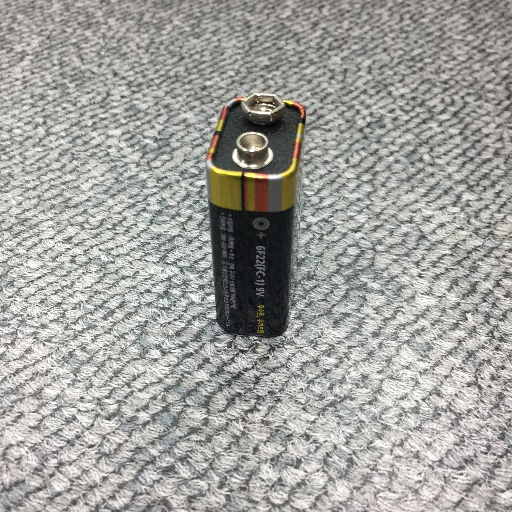Battery_3: (194, 83, 320, 357)
